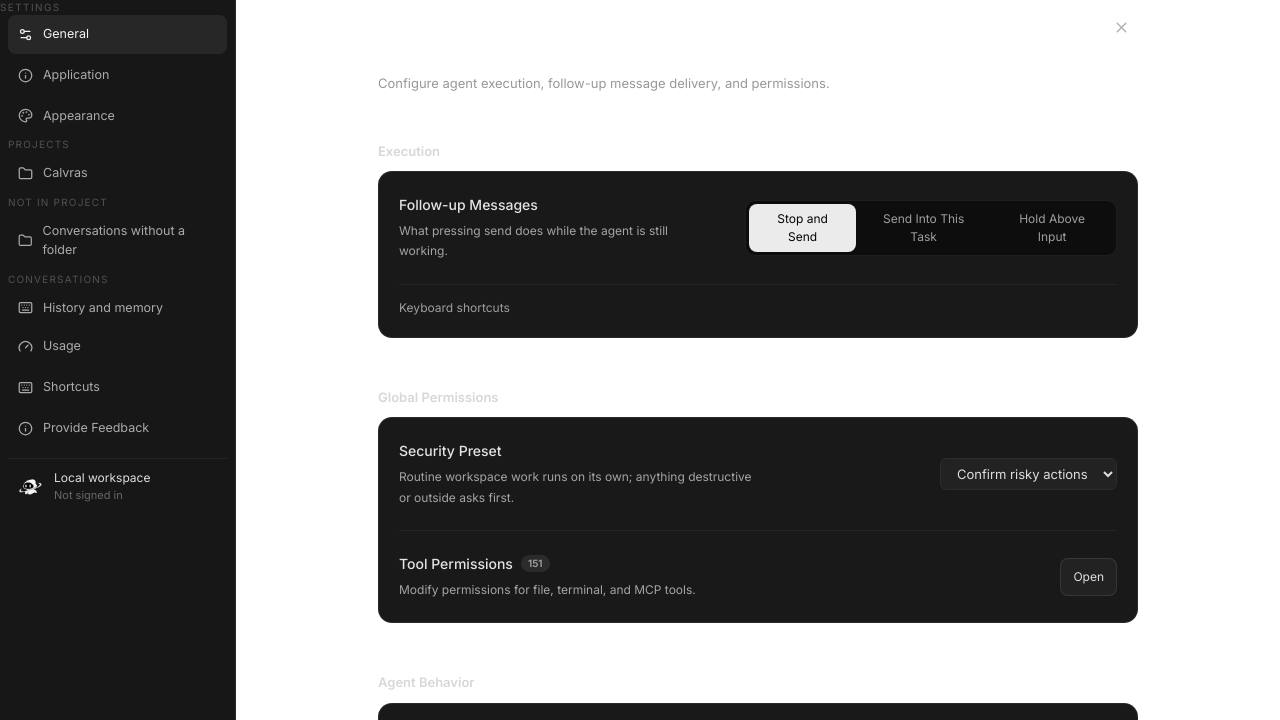
Test: settings › lists remembered folders in the rail and saves a per-project override
Click the button "Calvras" at (118, 174), box [8,154,227,193]
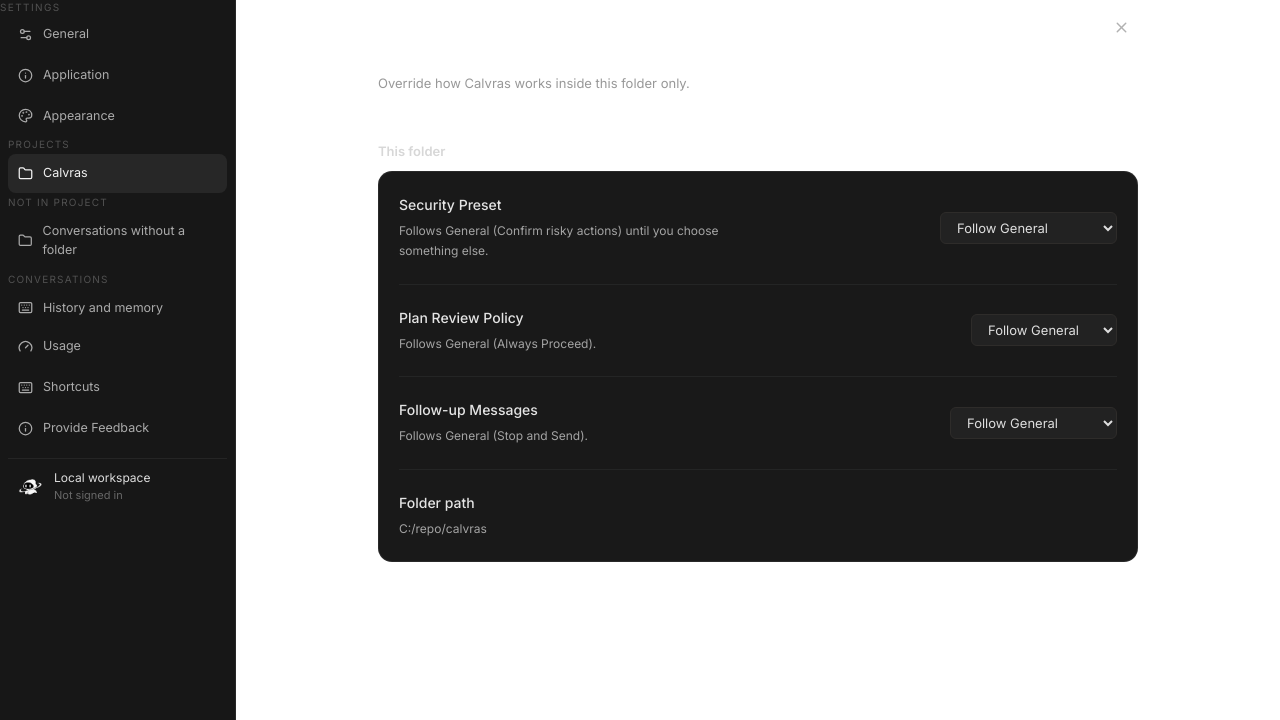
Select "Ask for approval" in the dropdown named "Project security preset" at (1028, 228), box [940,212,1117,244]
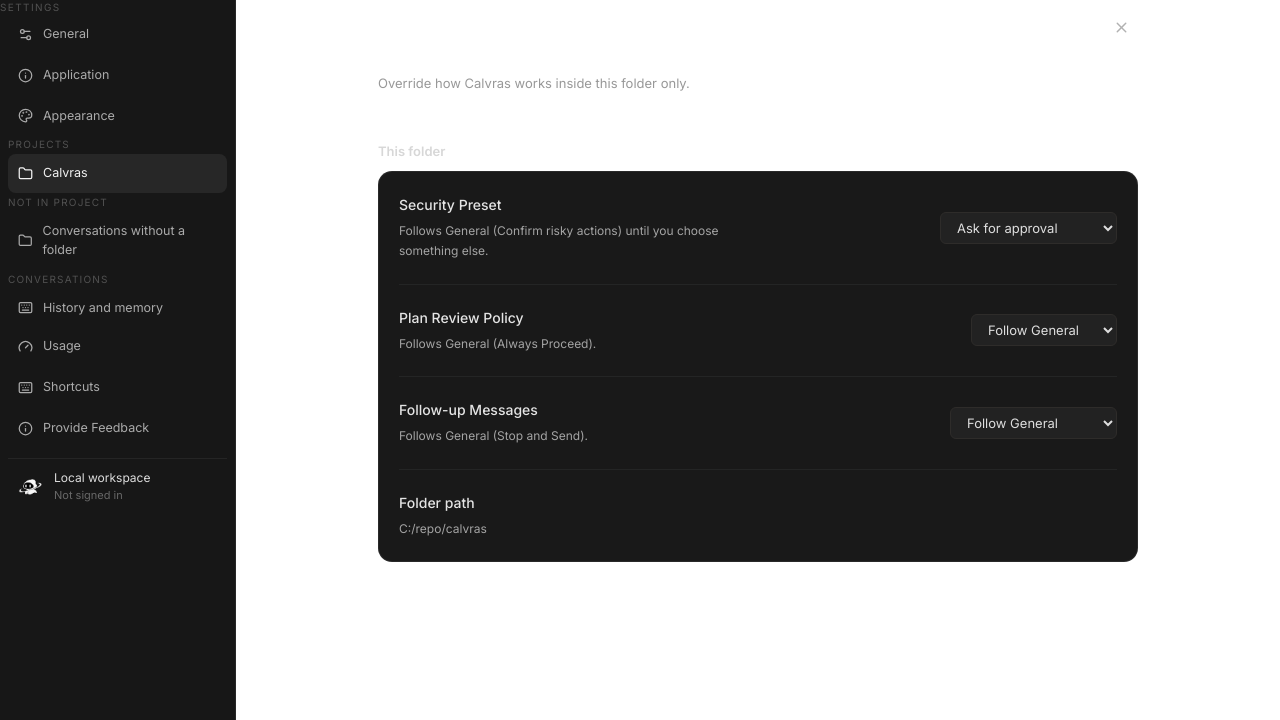
Click the button "General" at (118, 34), box [8,15,227,54]
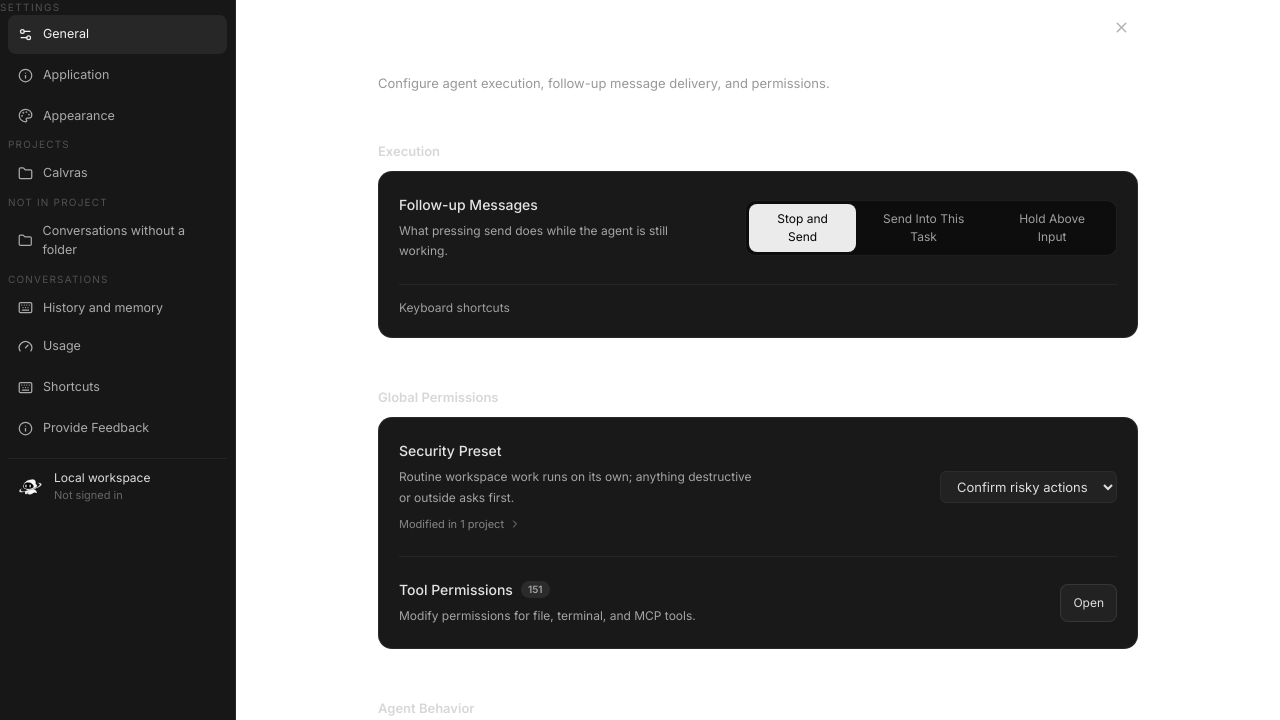
Click the button "Modified in 1 project" at (460, 524), box [399,516,521,533]
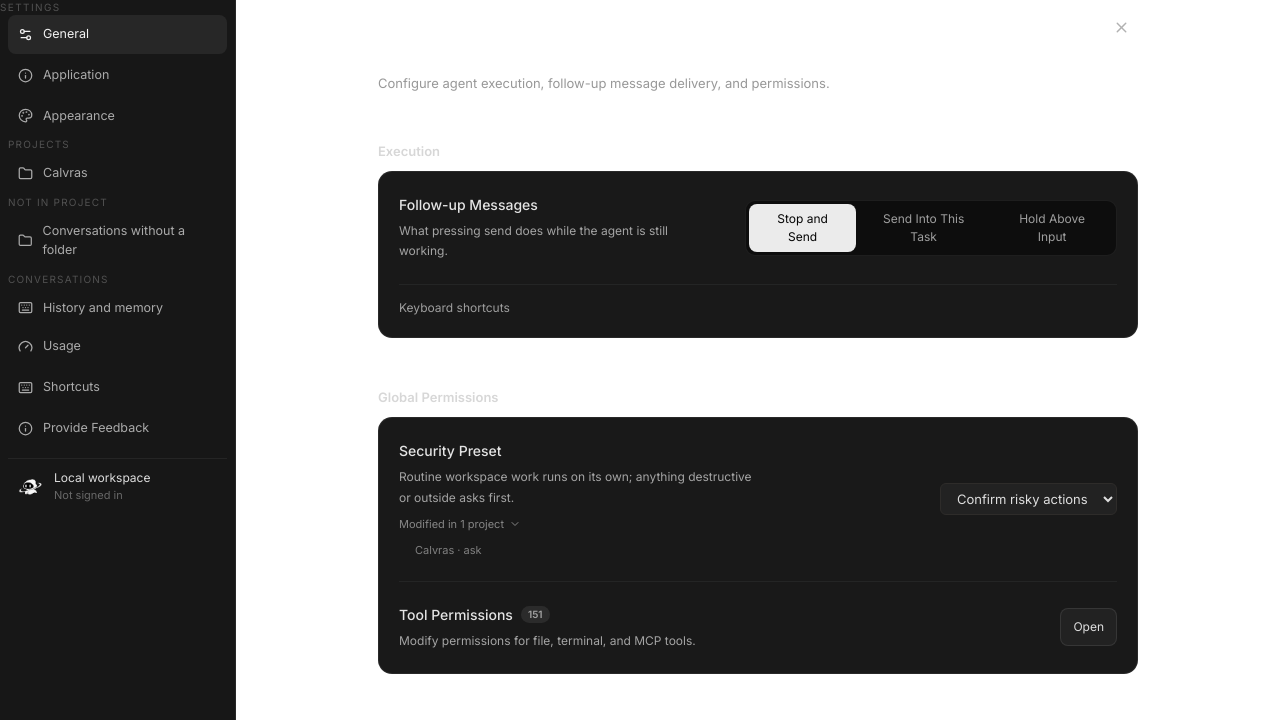
Result: the list item "Calvras · ask" is shown at [415,543,482,557]
